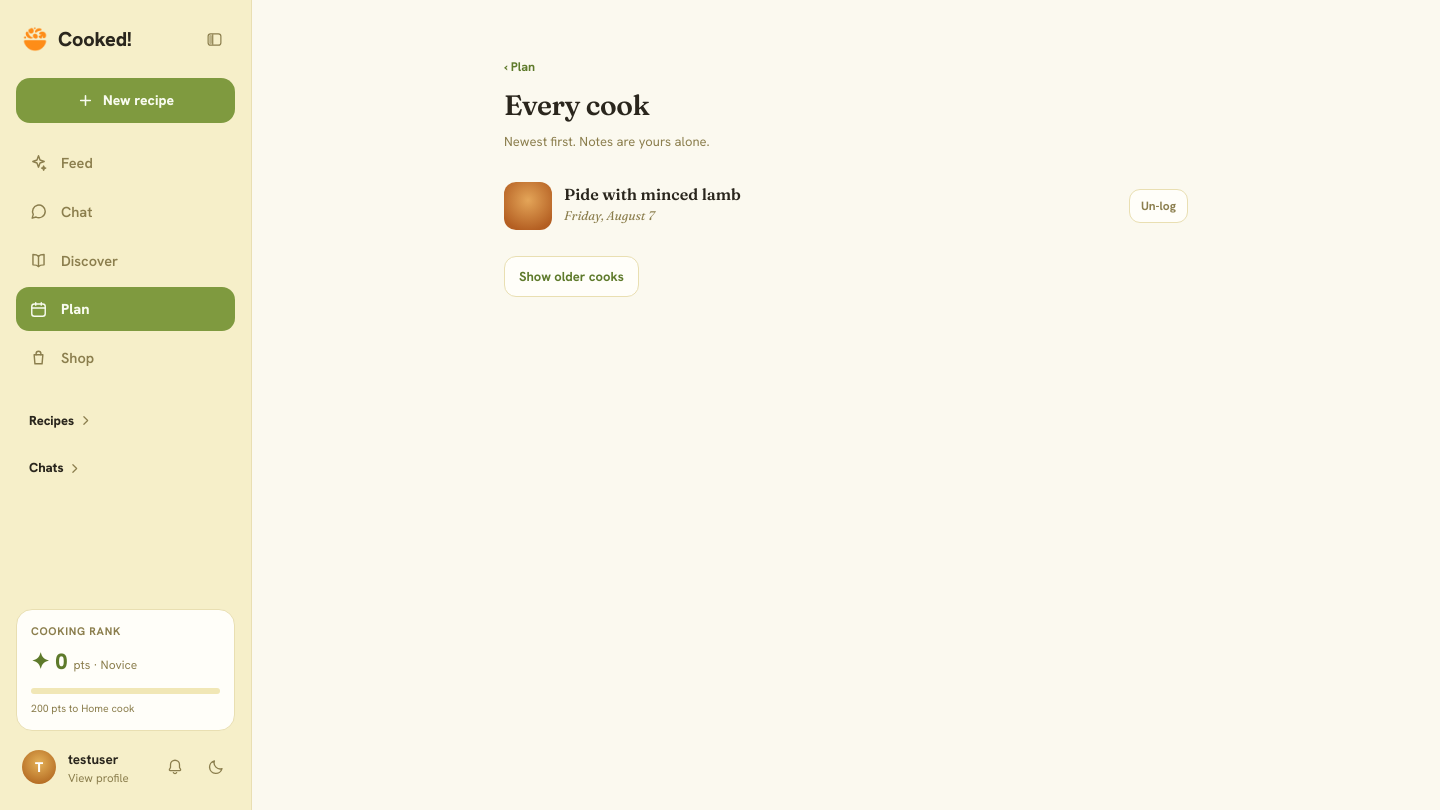
/plan/cooks › pages through older cooks
Click the button "Show older cooks".
click(571, 276)  # box [504,256,639,297]
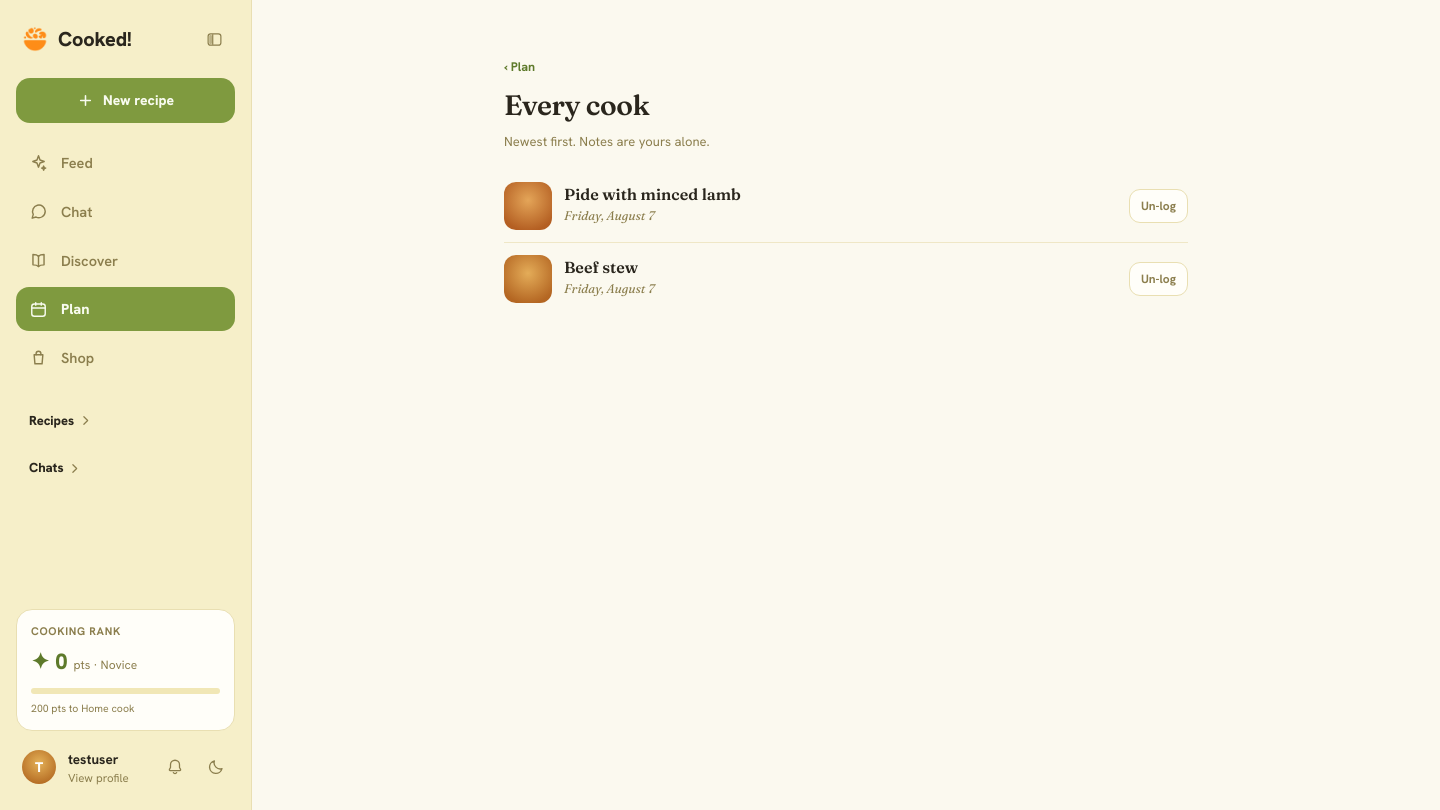
Now the text "Beef stew" is shown, box [564,257,638,277]
